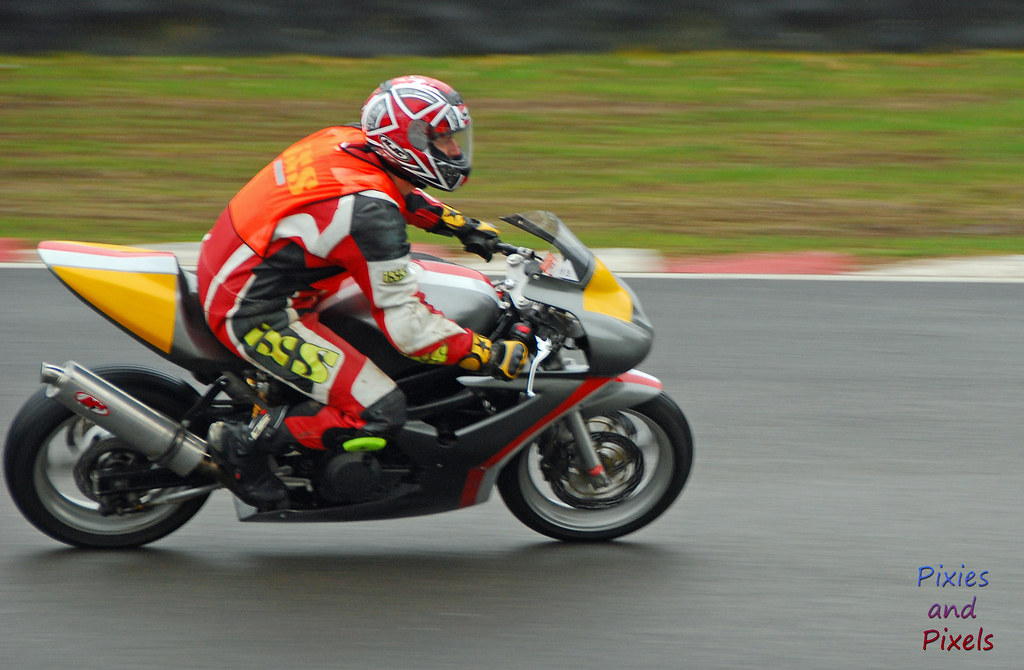helmet: (358, 69, 486, 191)
